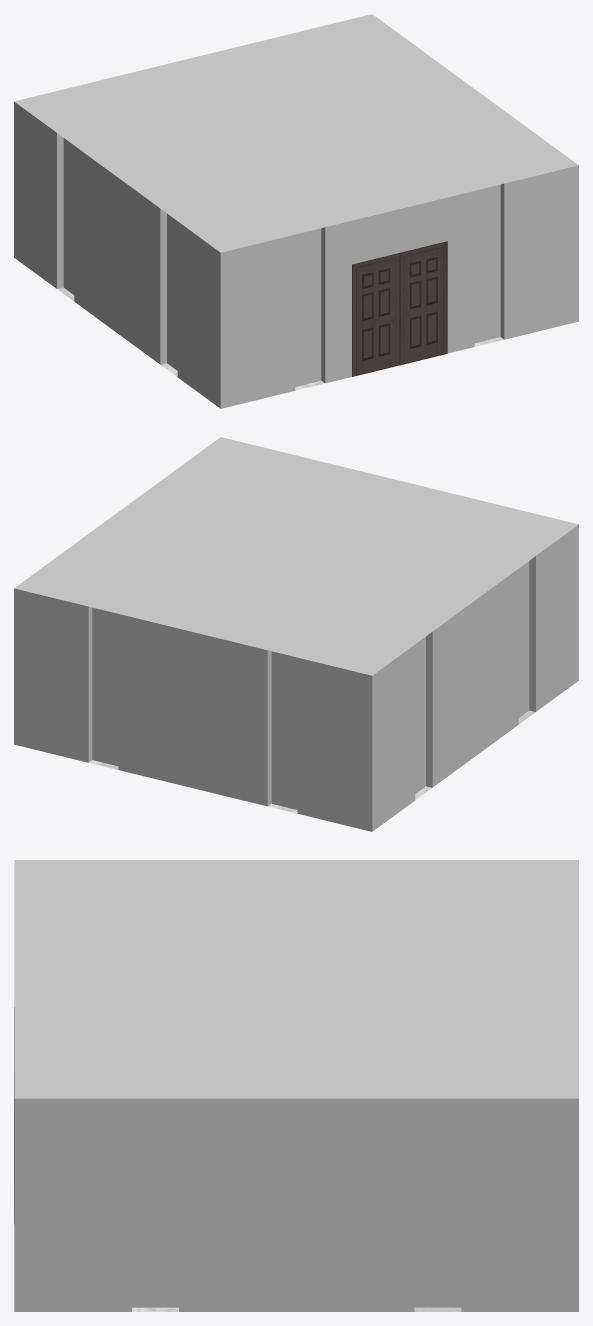
Rendered from Main-Room.fbx.
The picture shows the model from 3 angles, top to bottom: view 1: azimuth 30°, elevation 25°; view 2: azimuth 150°, elevation 25°; view 3: azimuth 270°, elevation 25°; orthographic projection. The views are drawn at different scales.
Parts seen in each view (by area): view 1: Roof, Walls, Woods, Door; view 2: Roof, Walls, Woods; view 3: Roof, Walls, Woods.
Part boxes in pixels (x1,y1,x2,y2): Roof: (14, 14, 578, 252); Walls: (14, 33, 578, 357); Woods: (14, 206, 578, 408); Door: (352, 241, 447, 376); Roof: (14, 437, 578, 675); Walls: (14, 456, 578, 780); Woods: (14, 629, 578, 831); Roof: (14, 860, 578, 1098); Walls: (14, 860, 578, 1241); Woods: (14, 1237, 578, 1311).
Bounding box in the file's own units: 600 × 250 × 600.
